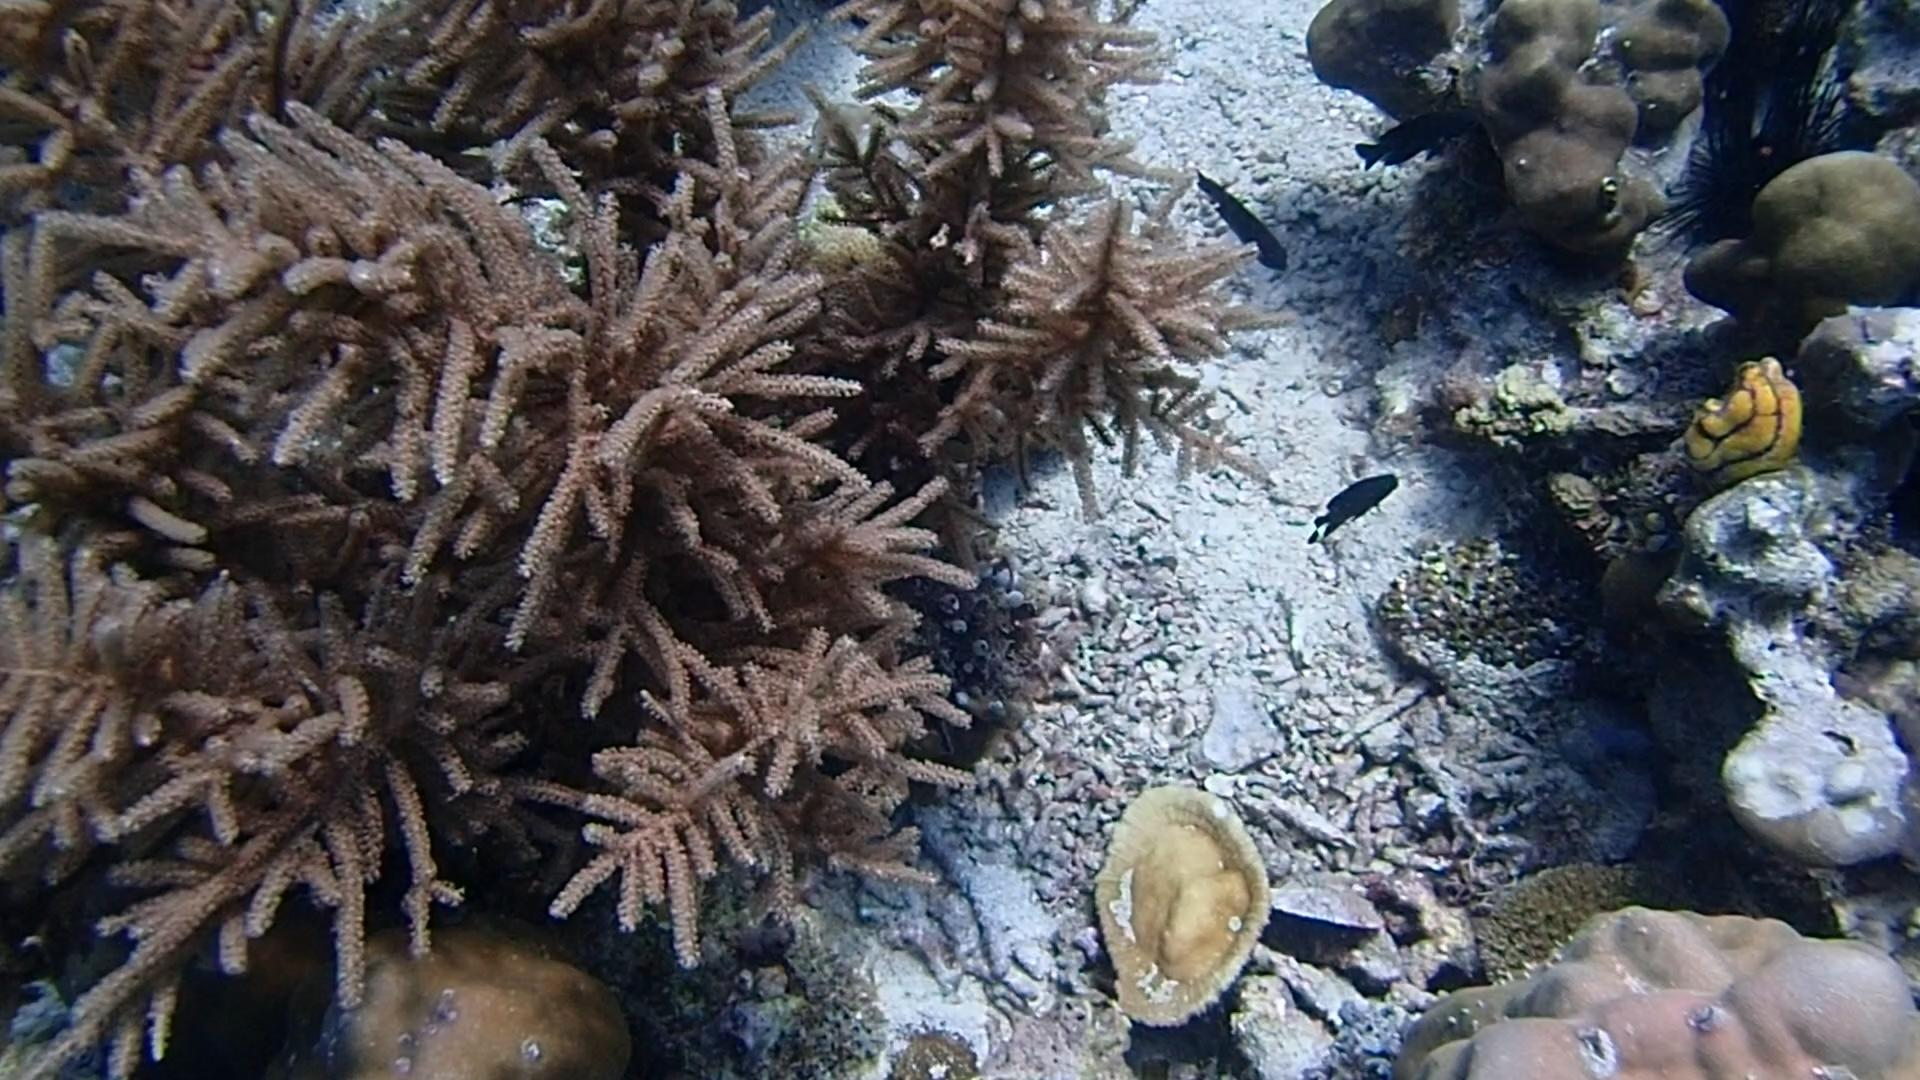Dark Fish: (1195, 158, 1291, 277), (1346, 107, 1470, 174), (1307, 468, 1403, 545)
